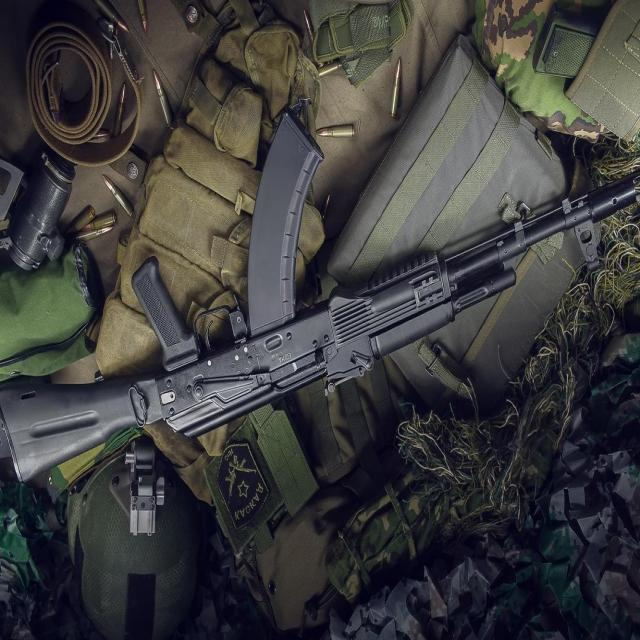weapon: (1, 112, 639, 487)
